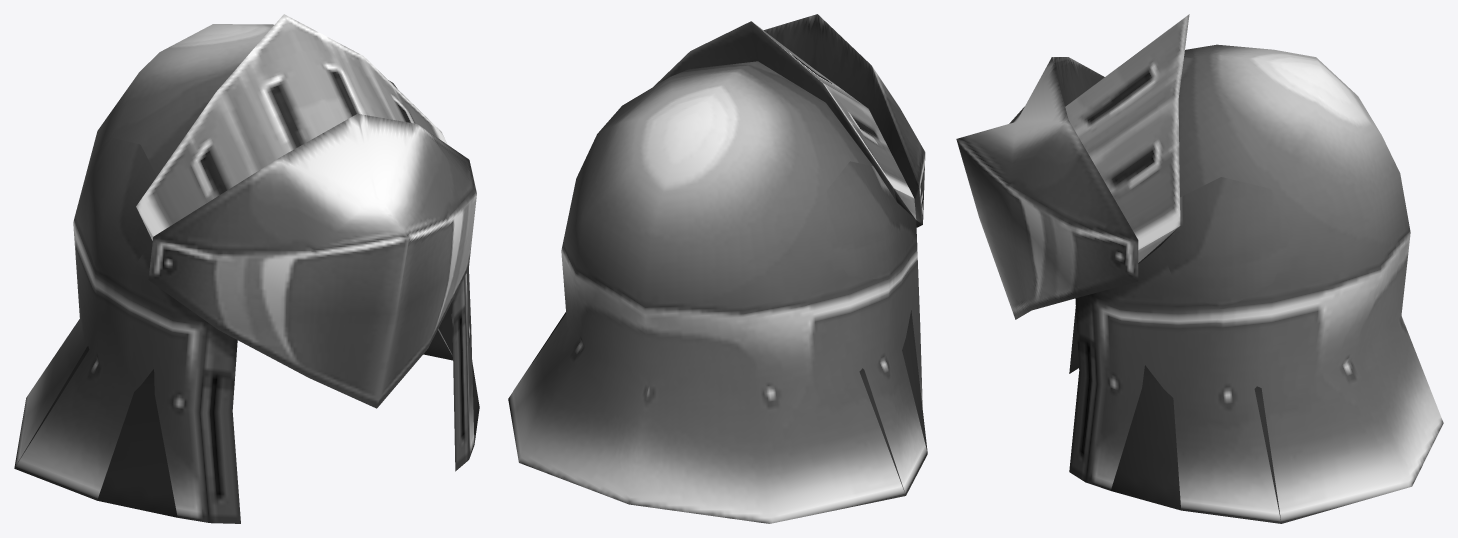
The model's file is helm0054.fbx.
The picture shows the model from 3 angles, left to right: view 1: azimuth 30°, elevation 25°; view 2: azimuth 150°, elevation 25°; view 3: azimuth 270°, elevation 25°; orthographic projection. The views are drawn at different scales.
Visible parts, largest first — view 1: helm0054_m; view 2: helm0054_m; view 3: helm0054_m.
Boxes of the visible parts, left/top/right/bottom form: helm0054_m: left=14, top=14, right=479, bottom=523; helm0054_m: left=508, top=14, right=927, bottom=523; helm0054_m: left=956, top=14, right=1443, bottom=523.
Bounding box in the file's own units: 0.3559 × 0.3367 × 0.3635.
